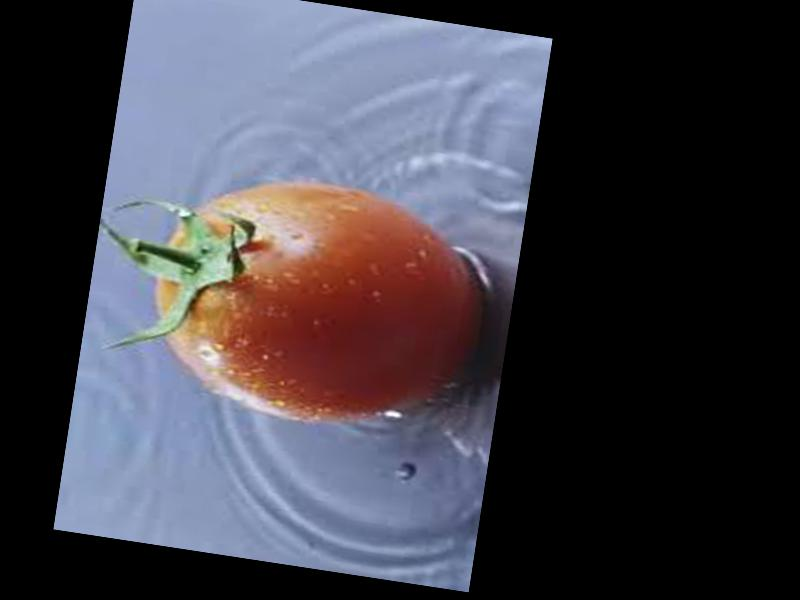Tomato: (142, 162, 498, 442)
